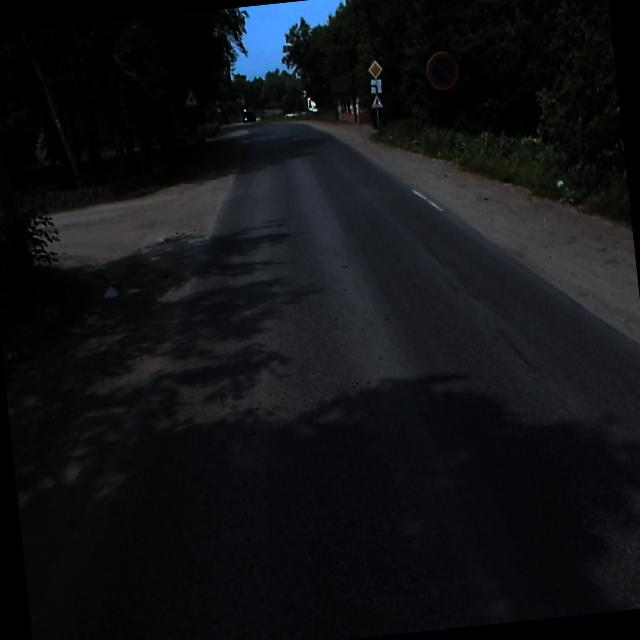road: (29, 119, 640, 640)
